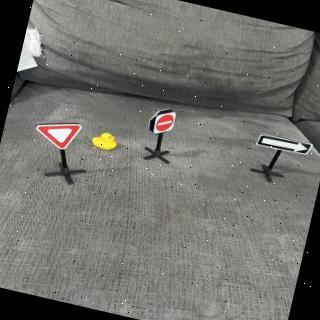duck_regular: (89, 128, 122, 157)
sign_noentry: (152, 107, 179, 140)
sign_oneway_right: (255, 131, 314, 160)
sign_yield: (33, 114, 84, 154)
